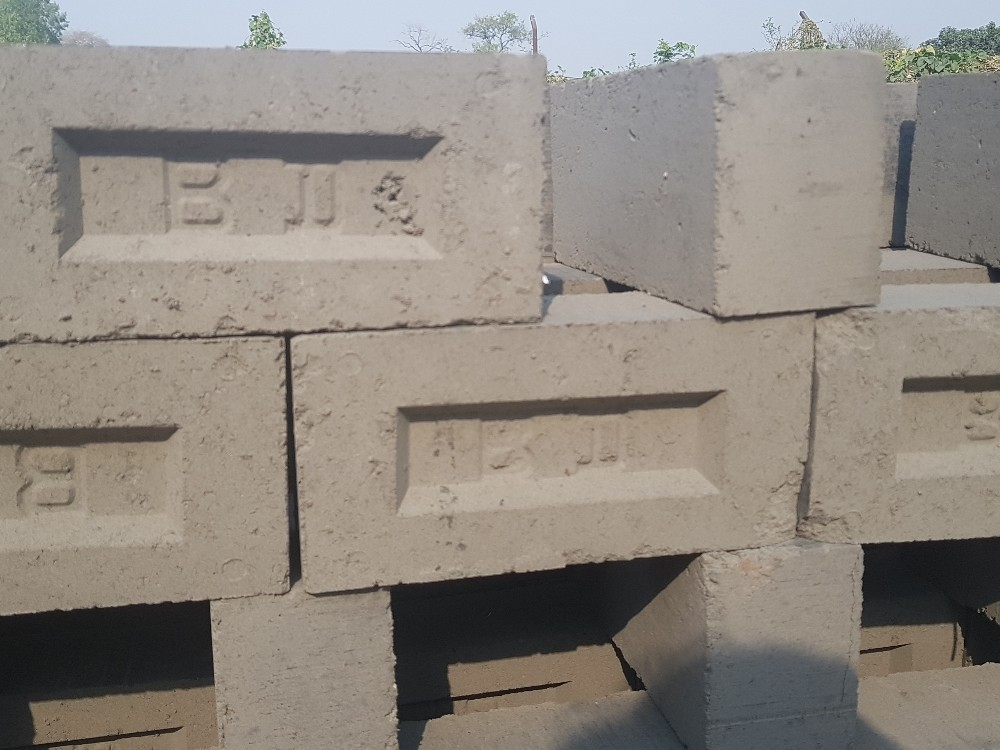brick: (2, 44, 544, 348), (294, 316, 814, 600), (2, 336, 288, 620), (710, 50, 892, 322), (812, 314, 1000, 540), (702, 548, 866, 748), (212, 594, 394, 746)
